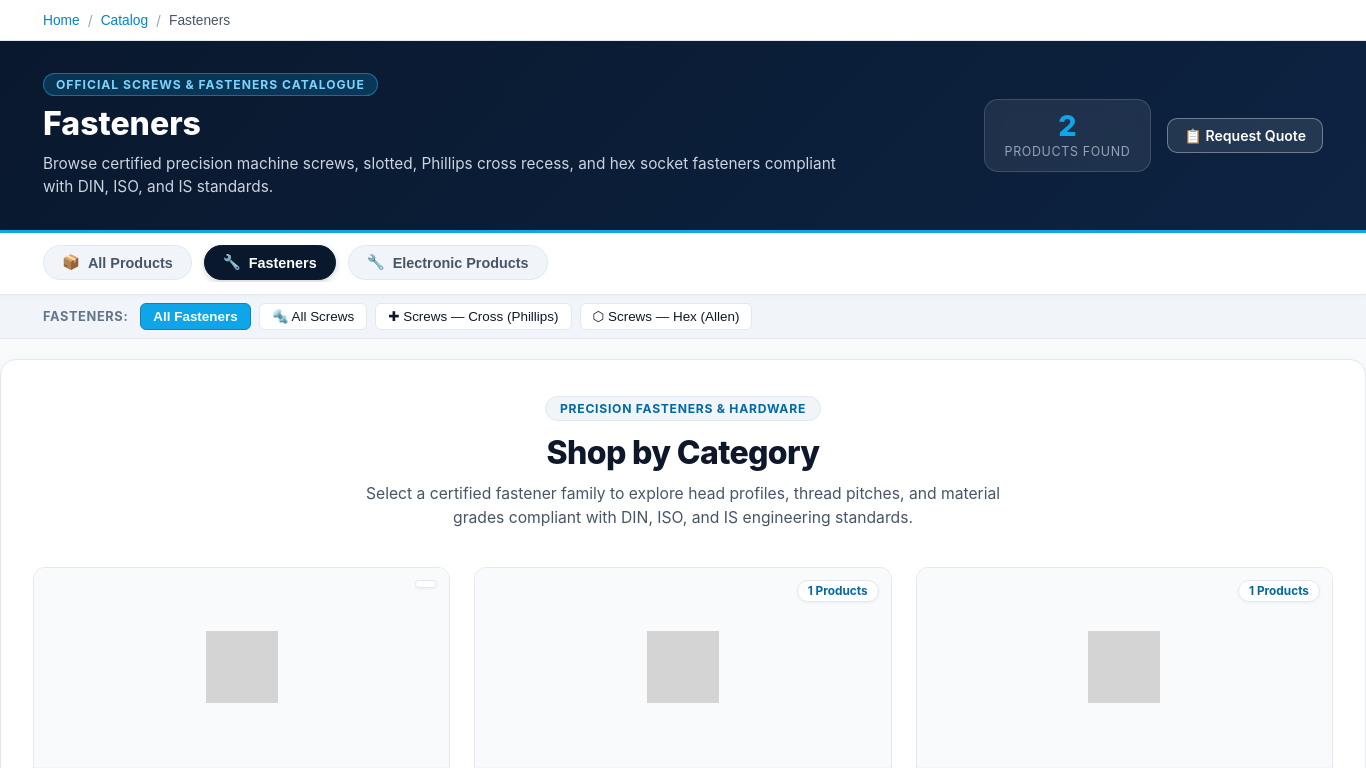
Scenario: VERTEX ProductListPage Component Suite › 3. Filters catalogue by subcategory
The width and height of the screenshot is (1366, 768).
Click the button "⬡ Screws — Hex (Allen)" at (666, 317), box [580,303,752,330]
(page scrolled)
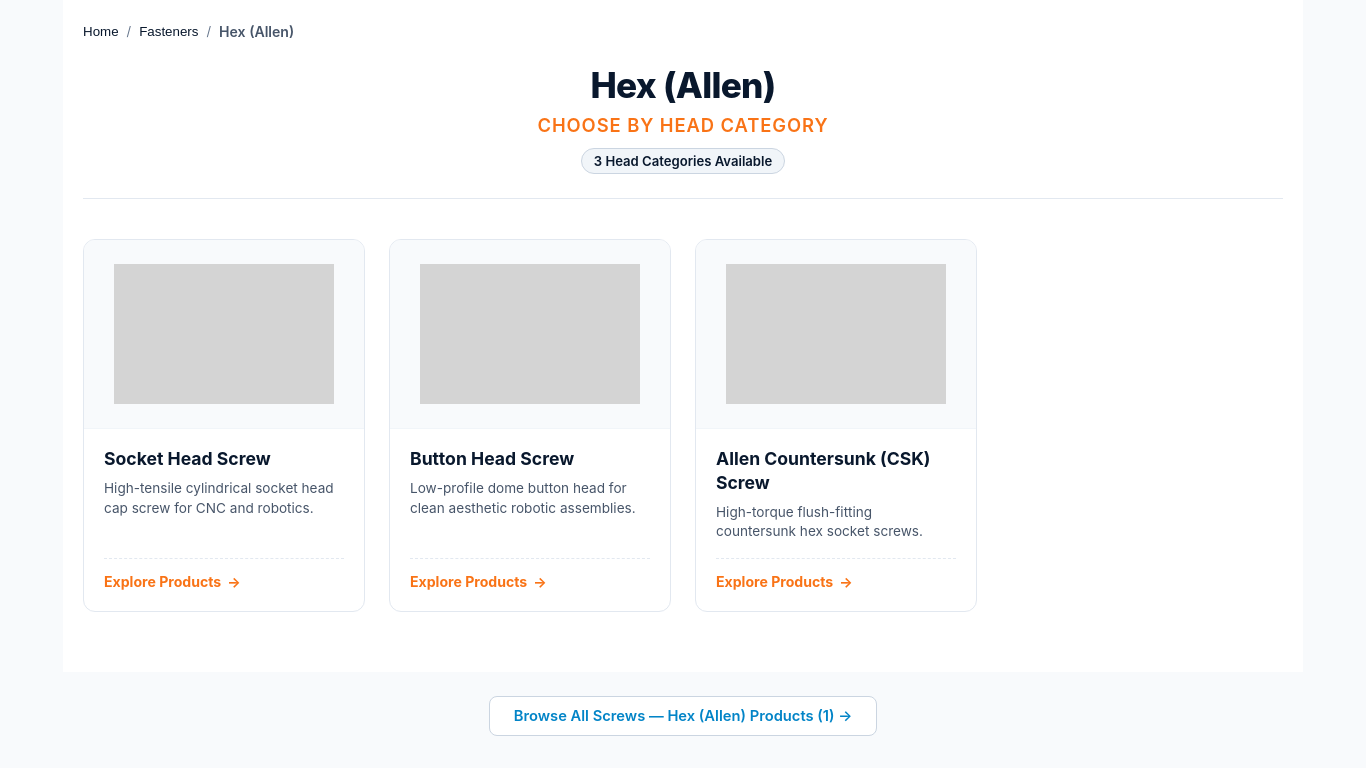
Expected: the heading "Socket Head Screw" is shown, [104,448,271,469]
